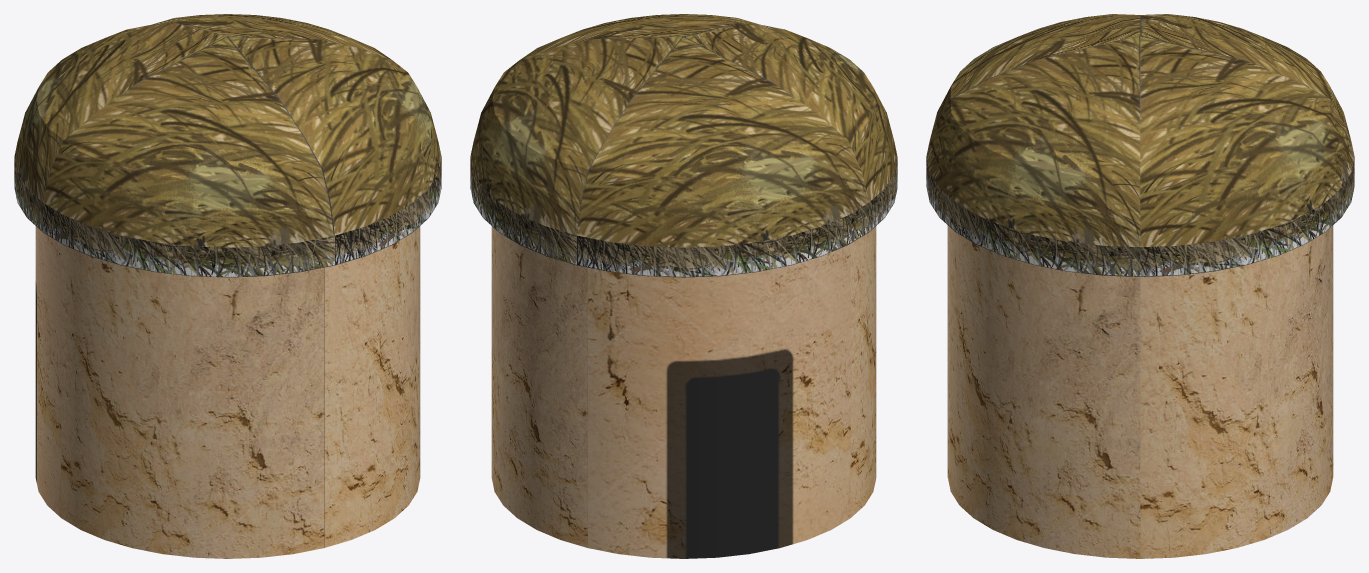
Rendered from SphereHouse.FBX.
3 renders of one model, left to right at view 1: azimuth 30°, elevation 25°; view 2: azimuth 150°, elevation 25°; view 3: azimuth 270°, elevation 25°, orthographic.
Visible parts, largest first — view 1: Cylinder003; view 2: Cylinder003; view 3: Cylinder003.
Boxes of the visible parts, box(x1,y1,x2,y2) form: Cylinder003: box(14, 14, 441, 558); Cylinder003: box(470, 14, 897, 558); Cylinder003: box(926, 14, 1354, 558).
Bounding box in the file's own units: 4 × 4.55 × 4.
1 material, 1 textured.
